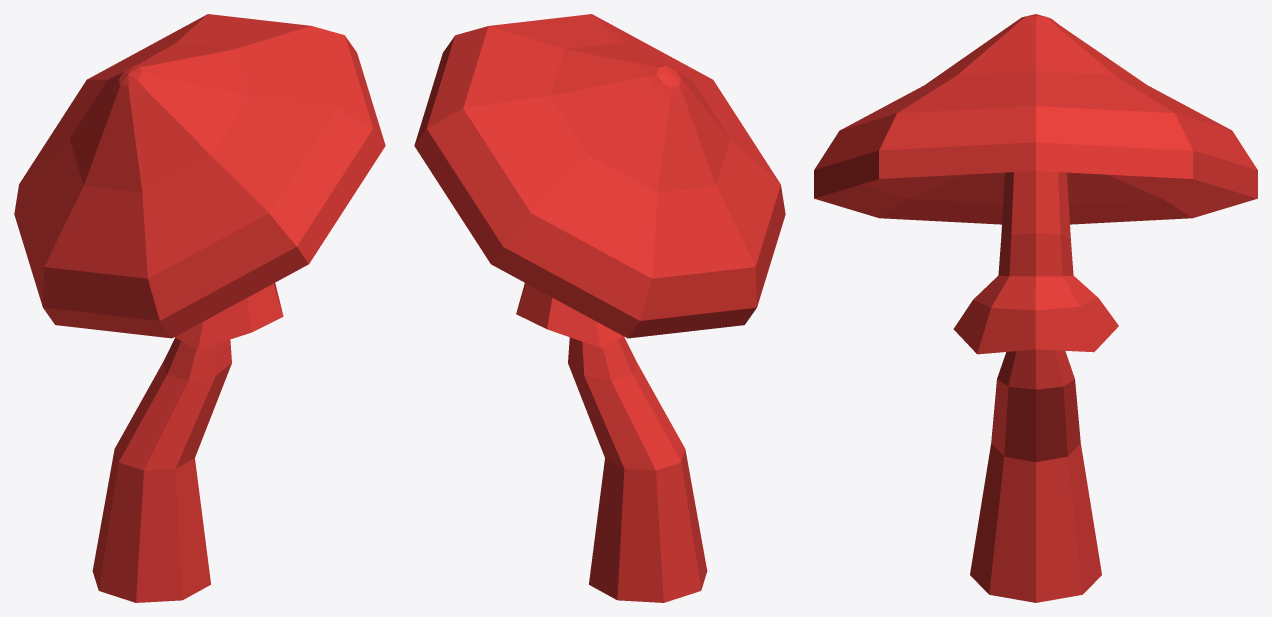
Rendered from Mushroom.fbx.
3 renders of one model, left to right at view 1: azimuth 30°, elevation 25°; view 2: azimuth 150°, elevation 25°; view 3: azimuth 270°, elevation 25°, orthographic. The views are drawn at different scales.
Parts seen in each view (by area): view 1: Hongo1; view 2: Hongo1; view 3: Hongo1.
Part boxes in pixels (<box>): Hongo1: <box>14,14,385,602</box>; Hongo1: <box>414,14,785,602</box>; Hongo1: <box>814,14,1257,602</box>.
Bounding box in the file's own units: 2599 × 4059 × 2950.
